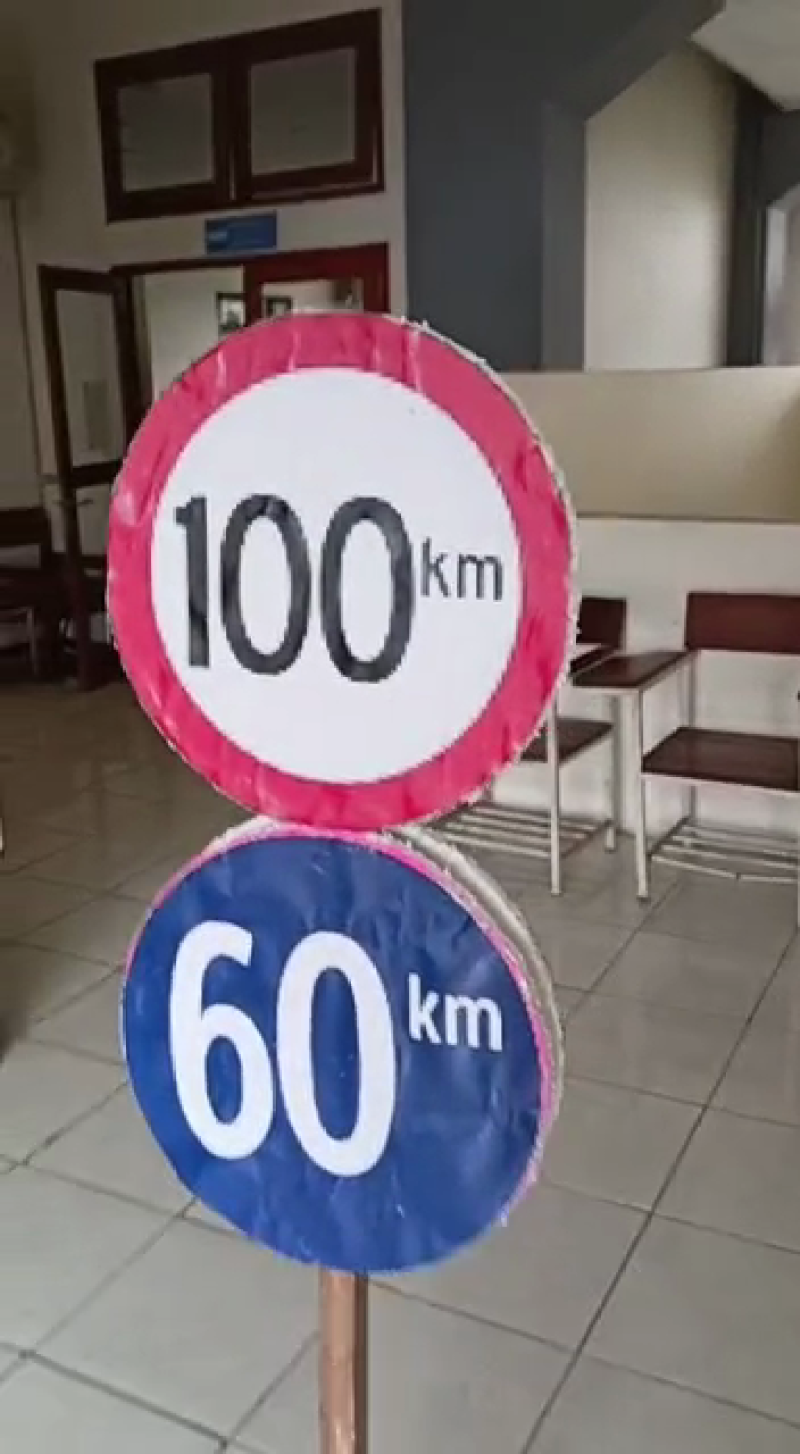batas maksimal 100kmperjam minimal 60kmperjam: (95, 313, 592, 1287)
